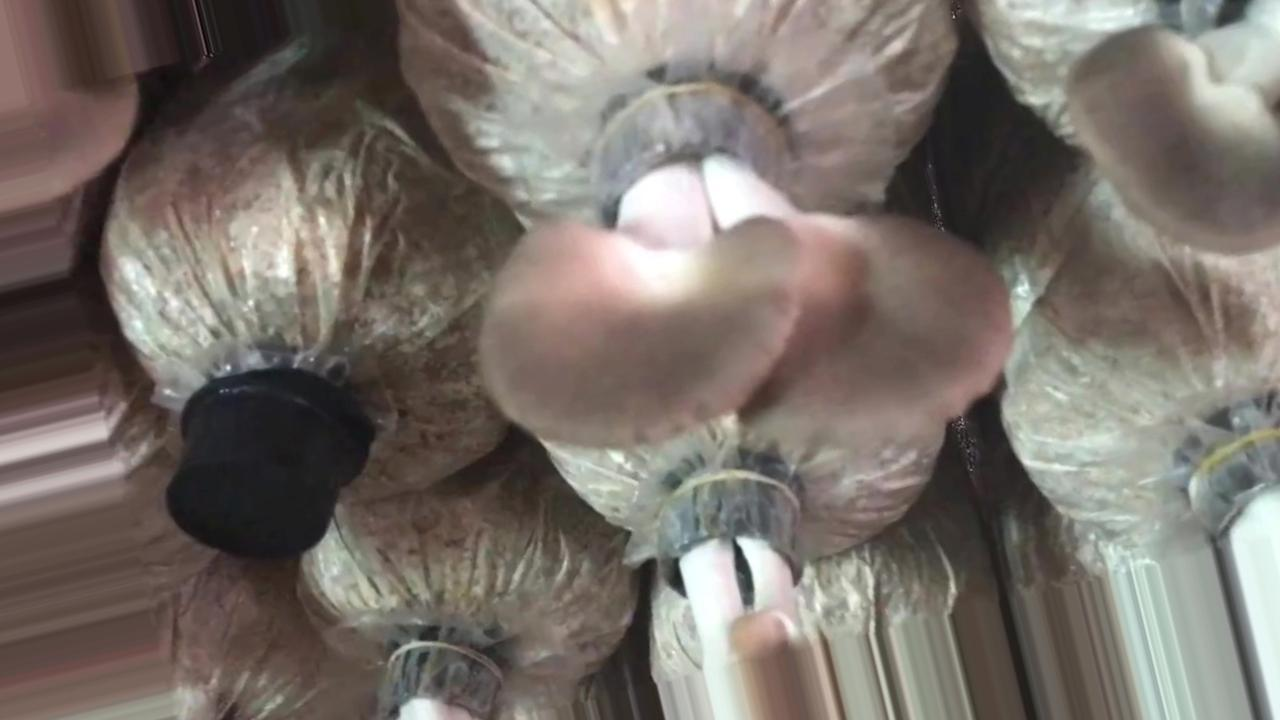nam: (473, 82, 1021, 463), (1065, 1, 1274, 260)
